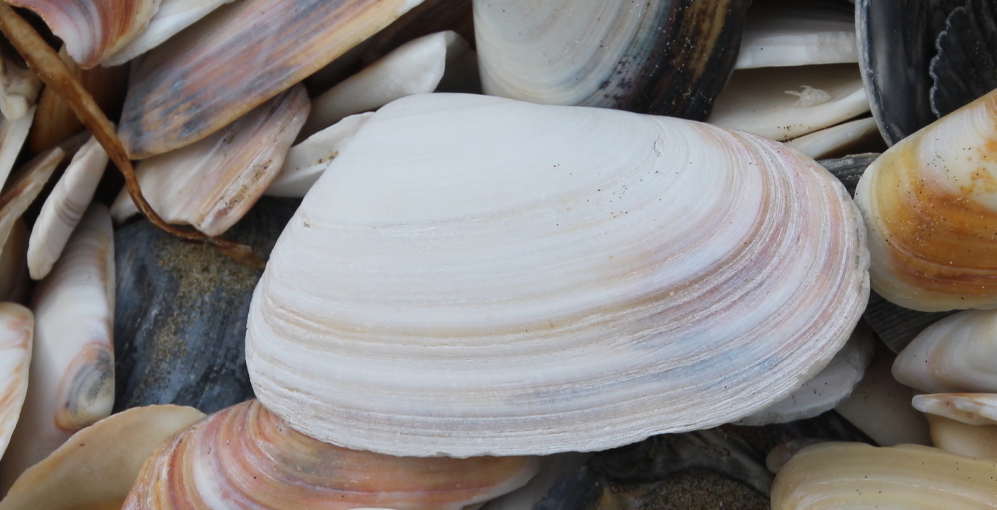tuatua: (234, 90, 875, 461)
